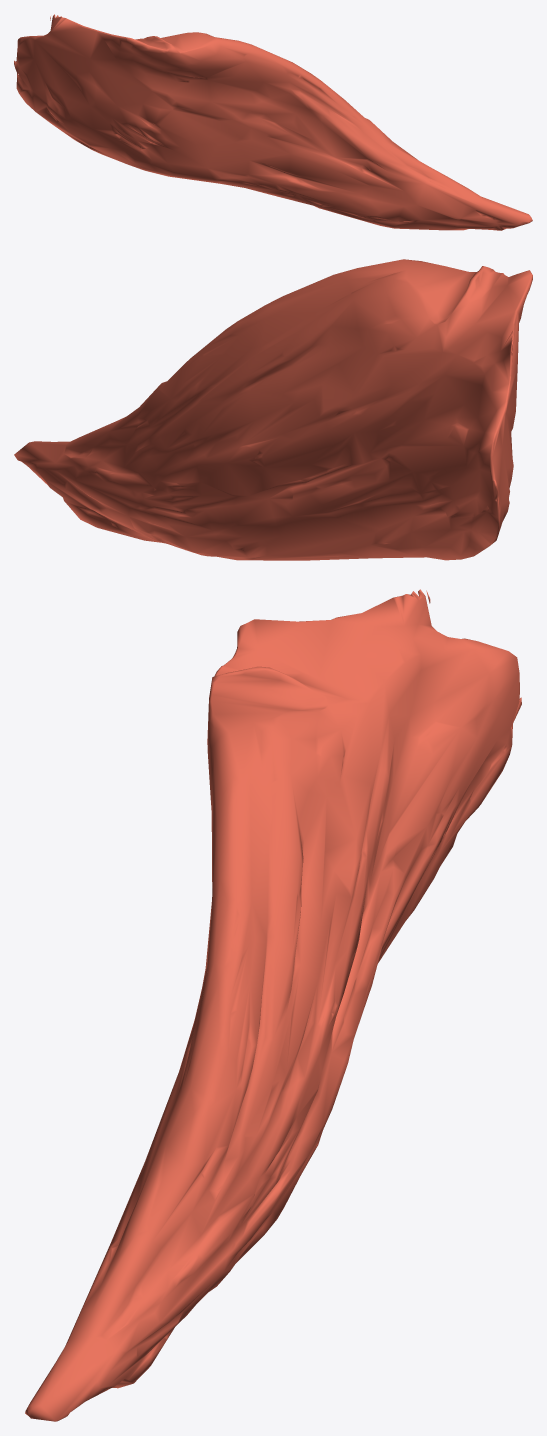
Rendered from piriformis.glb.
The picture shows the model from 3 angles, top to bottom: view 1: azimuth 30°, elevation 25°; view 2: azimuth 150°, elevation 25°; view 3: azimuth 270°, elevation 25°; orthographic projection. The views are drawn at different scales.
Parts seen in each view (by area): view 1: Piriformis muscle.l; view 2: Piriformis muscle.l; view 3: Piriformis muscle.l.
Boxes of the visible parts, x1,y1,x2,y2 form: Piriformis muscle.l: (14, 14, 532, 230); Piriformis muscle.l: (14, 259, 532, 560); Piriformis muscle.l: (25, 589, 521, 1421).
Bounding box in the file's own units: 0.11 × 0.0631 × 0.0592.
